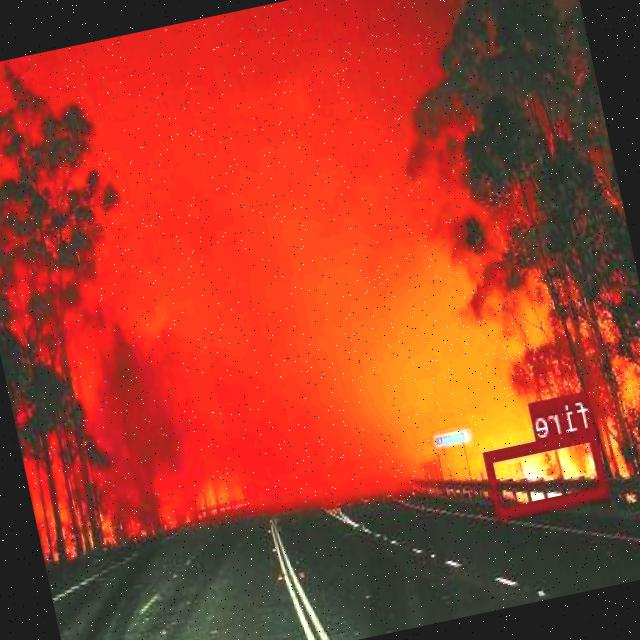fire: (484, 427, 610, 516)
